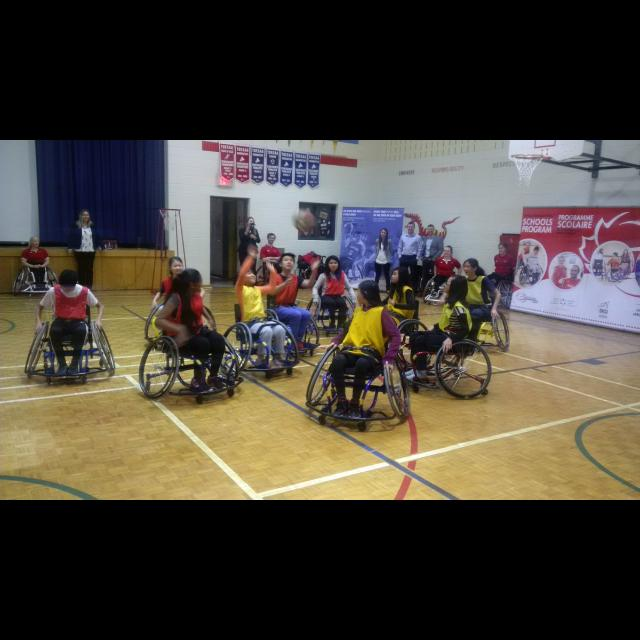head: (176, 268, 204, 294), (356, 279, 380, 305), (59, 270, 80, 294), (444, 276, 468, 294), (240, 266, 258, 284), (391, 267, 409, 285), (168, 258, 184, 276), (464, 258, 480, 276), (279, 254, 295, 270), (328, 256, 340, 272), (80, 209, 90, 221), (30, 236, 40, 248), (245, 216, 255, 228), (380, 228, 390, 240), (426, 225, 436, 237), (499, 243, 509, 255), (408, 222, 417, 234), (443, 246, 453, 256), (268, 232, 276, 244)
person: (322, 278, 404, 420), (152, 266, 228, 394), (29, 268, 106, 380), (400, 274, 474, 386), (233, 241, 290, 373), (443, 256, 502, 358), (267, 252, 323, 354), (365, 266, 419, 360), (151, 255, 207, 345), (311, 254, 361, 336), (66, 207, 106, 307), (482, 242, 518, 312), (235, 216, 263, 304), (396, 220, 424, 298), (419, 222, 446, 302), (20, 232, 54, 294), (428, 244, 464, 302), (370, 226, 398, 298), (258, 232, 282, 288)
